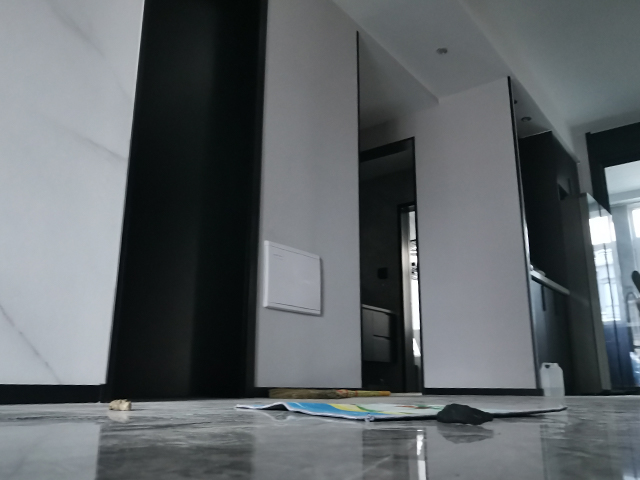cabinet: (523, 273, 596, 392), (356, 304, 401, 394)
carpet: (231, 399, 573, 425)
feces: (434, 402, 497, 427), (107, 398, 134, 412)
